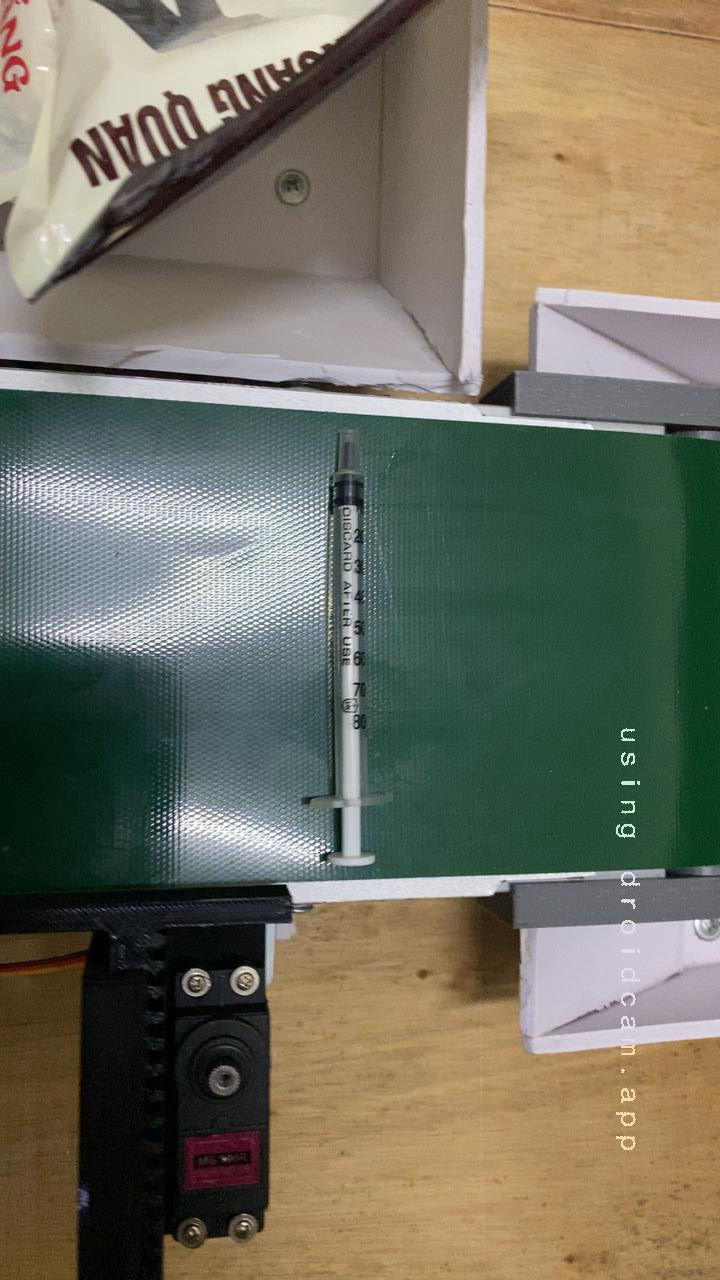syringe: (294, 461, 391, 863)
